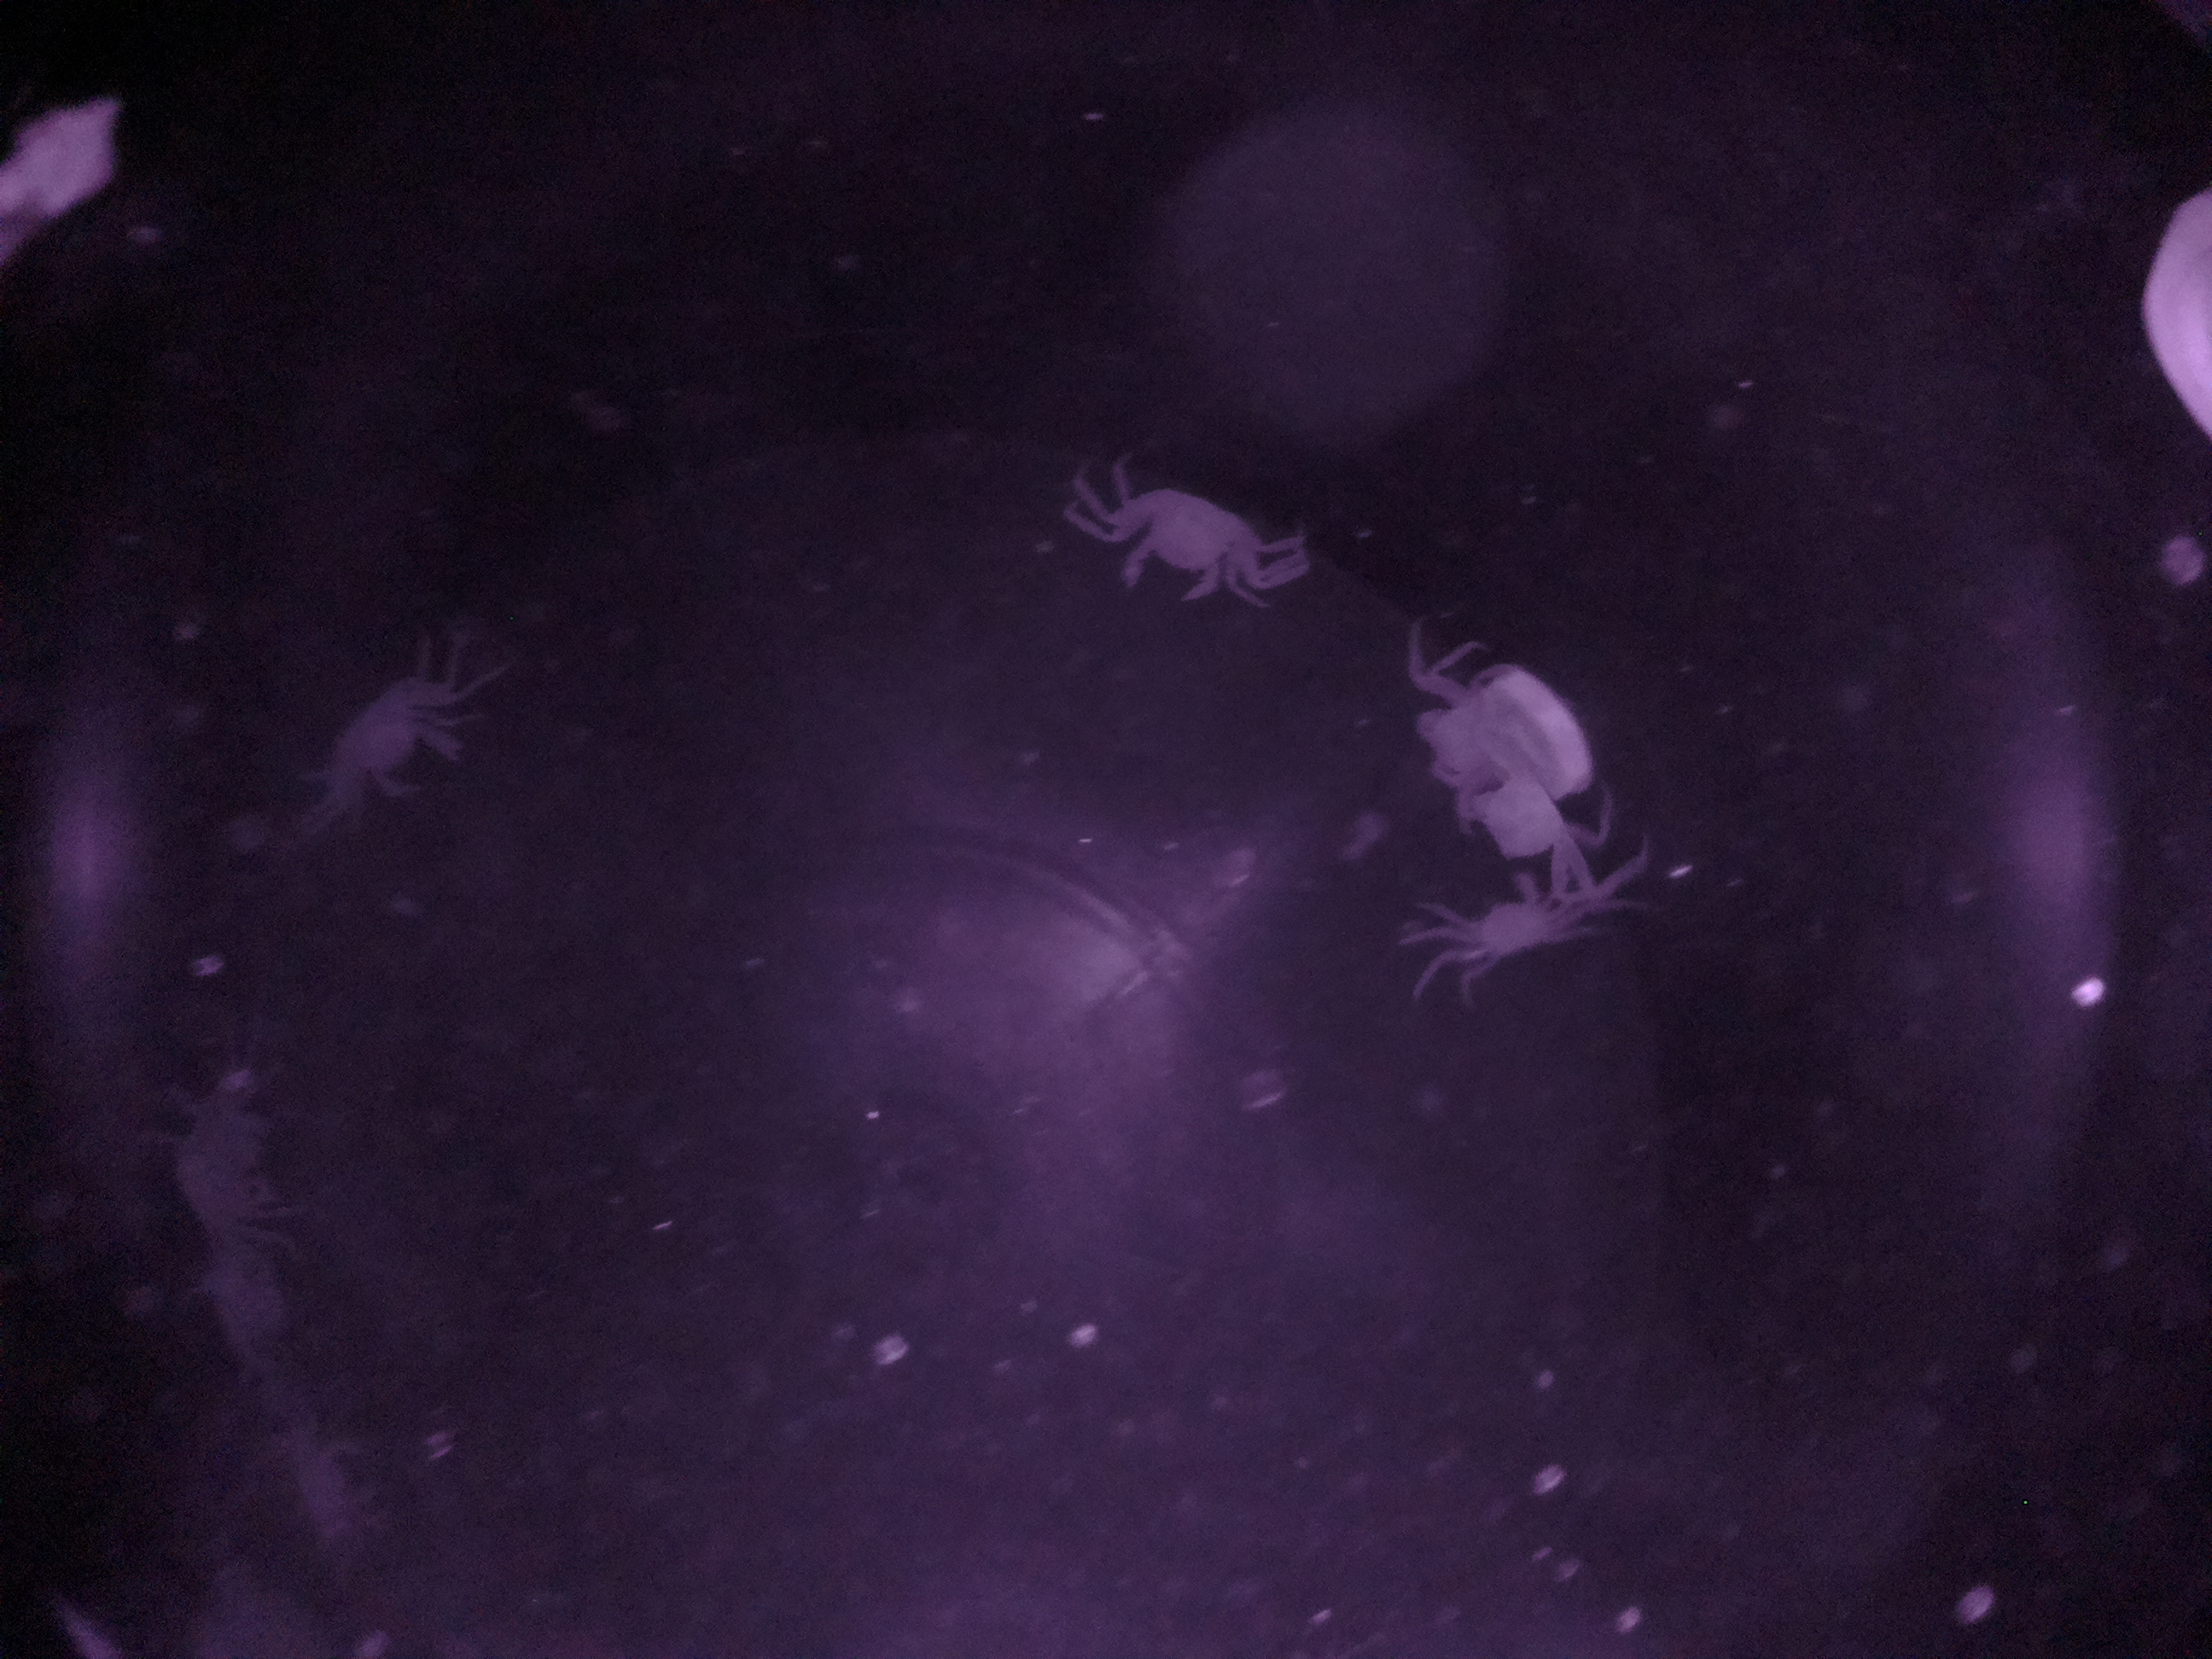Crab: (1066, 448, 1306, 619), (303, 636, 496, 840), (1423, 859, 1608, 986)
